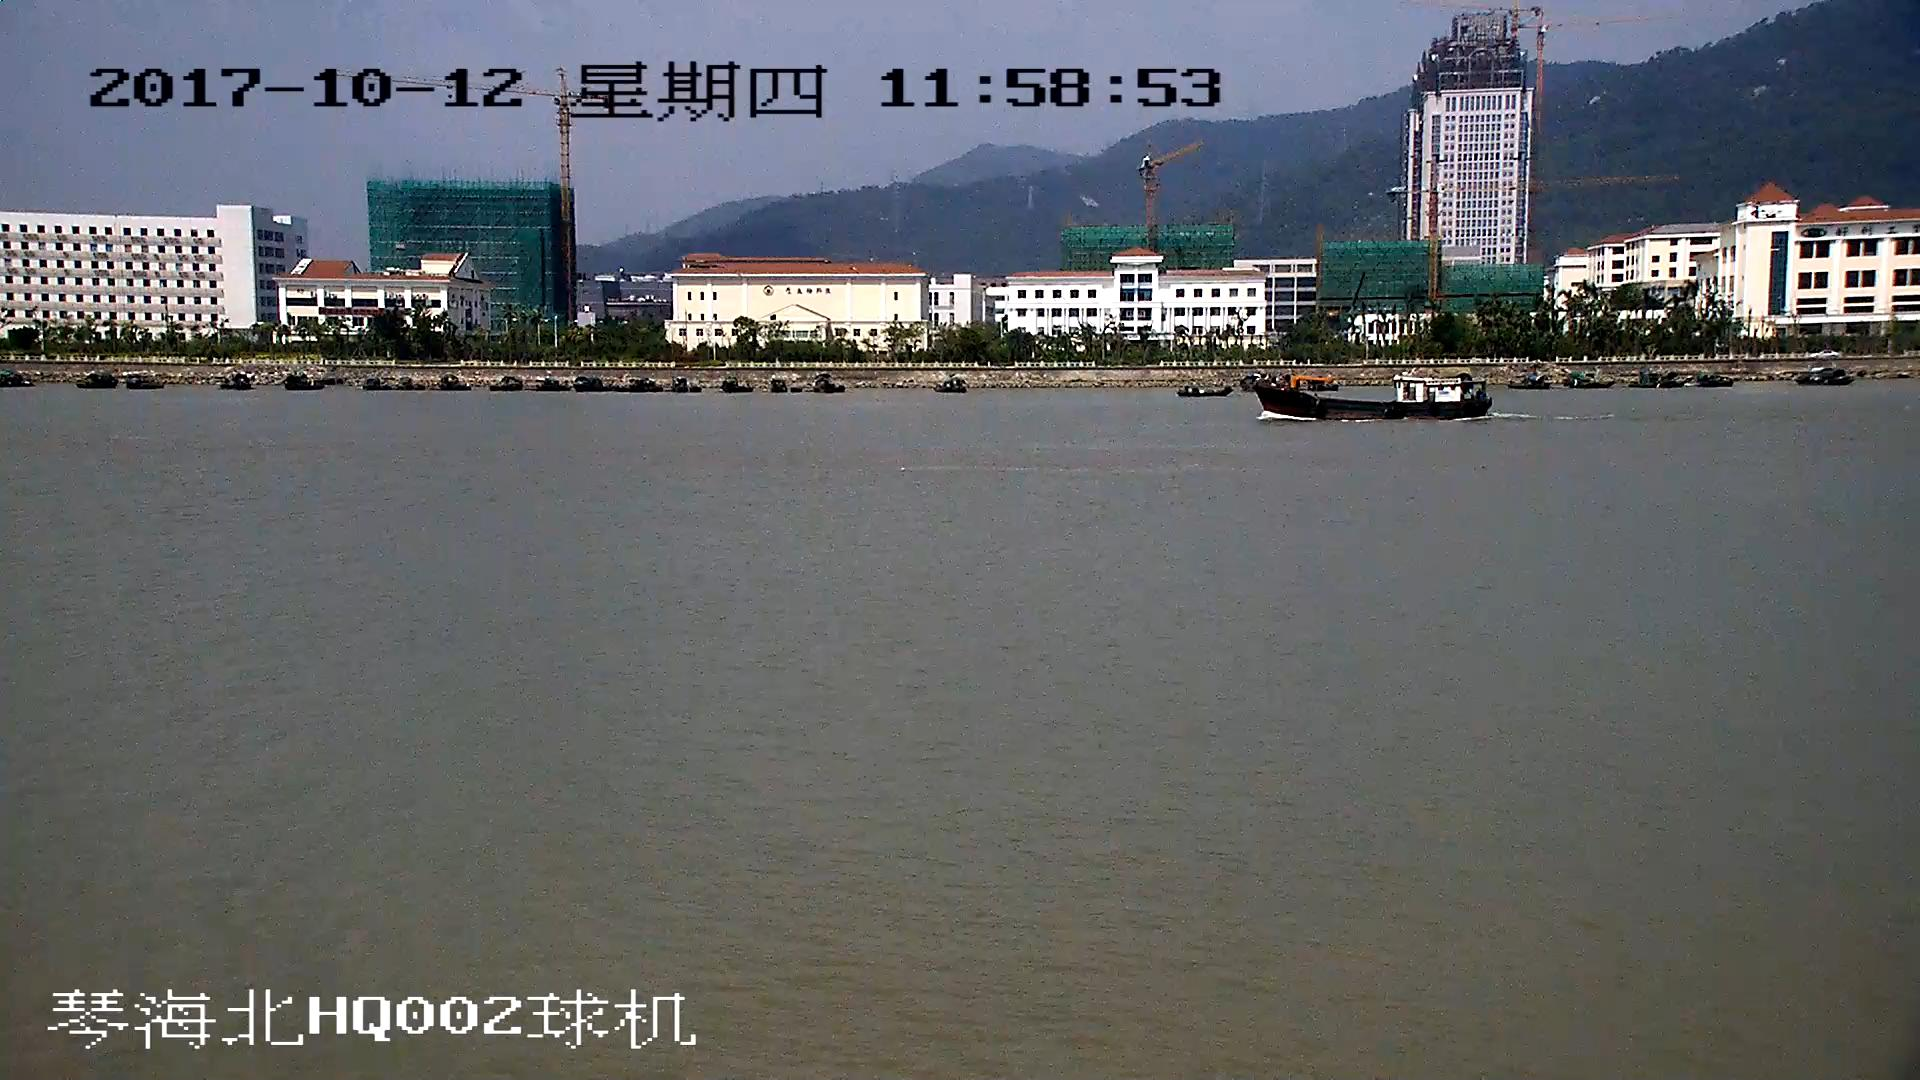fishing boat: (1255, 381, 1488, 419)
